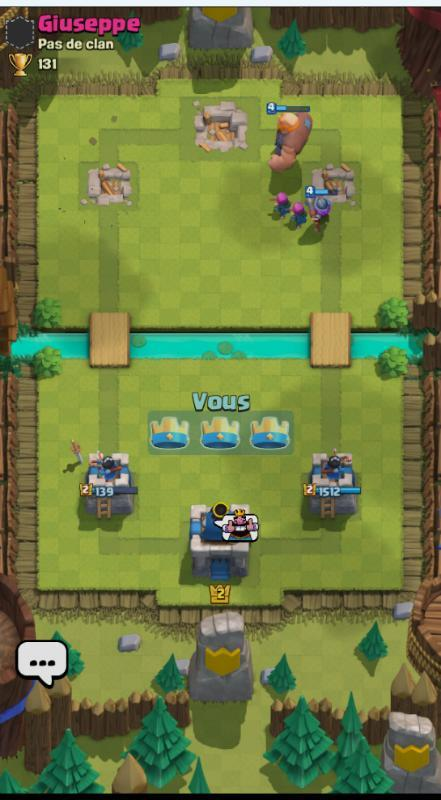player_archers: (266, 188, 294, 218), (286, 198, 309, 229)
player_giant: (264, 103, 315, 171)
player_musketeer: (303, 185, 341, 228)
